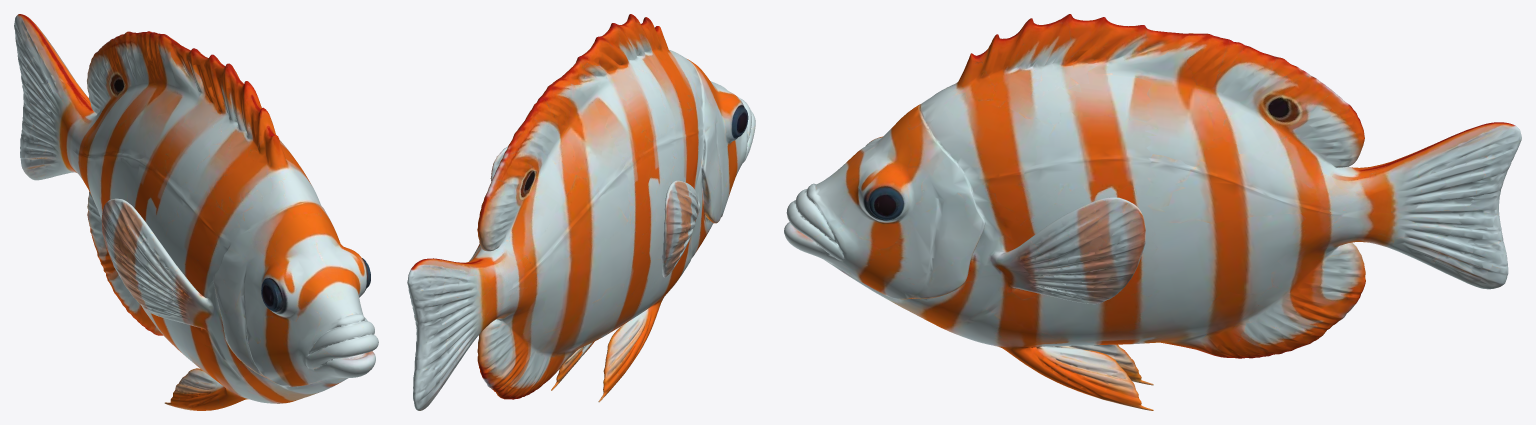
Rendered from ButterflyFish.glb.
3 renders of one model, left to right at view 1: azimuth 30°, elevation 25°; view 2: azimuth 150°, elevation 25°; view 3: azimuth 270°, elevation 25°, orthographic. The views are drawn at different scales.
Size of the model in its own units: 0.5946 by 1.09 by 1.9.
1 material, 1 textured.
